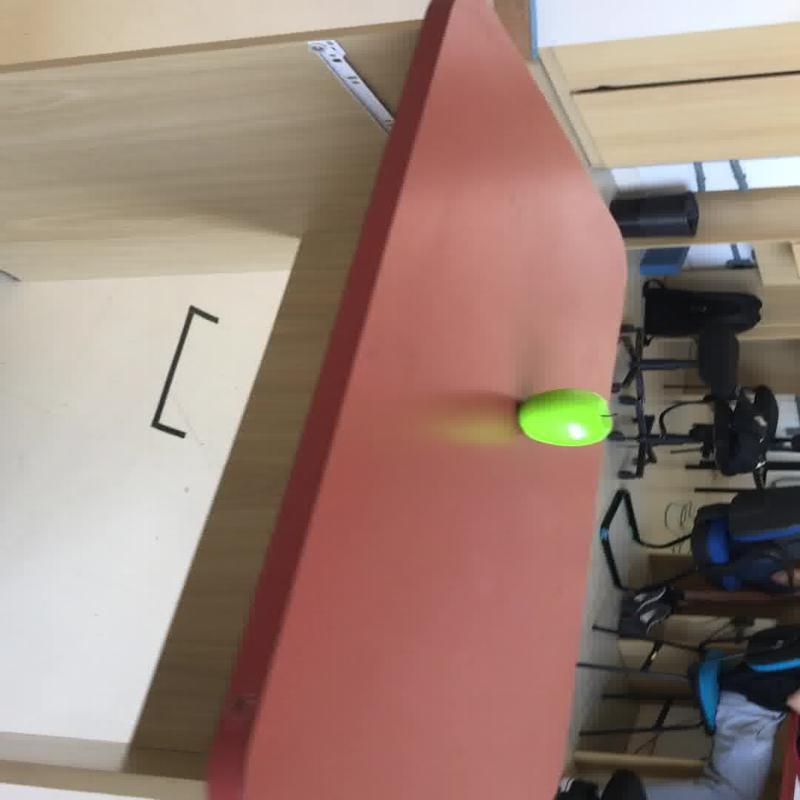apple: (515, 387, 614, 446)
